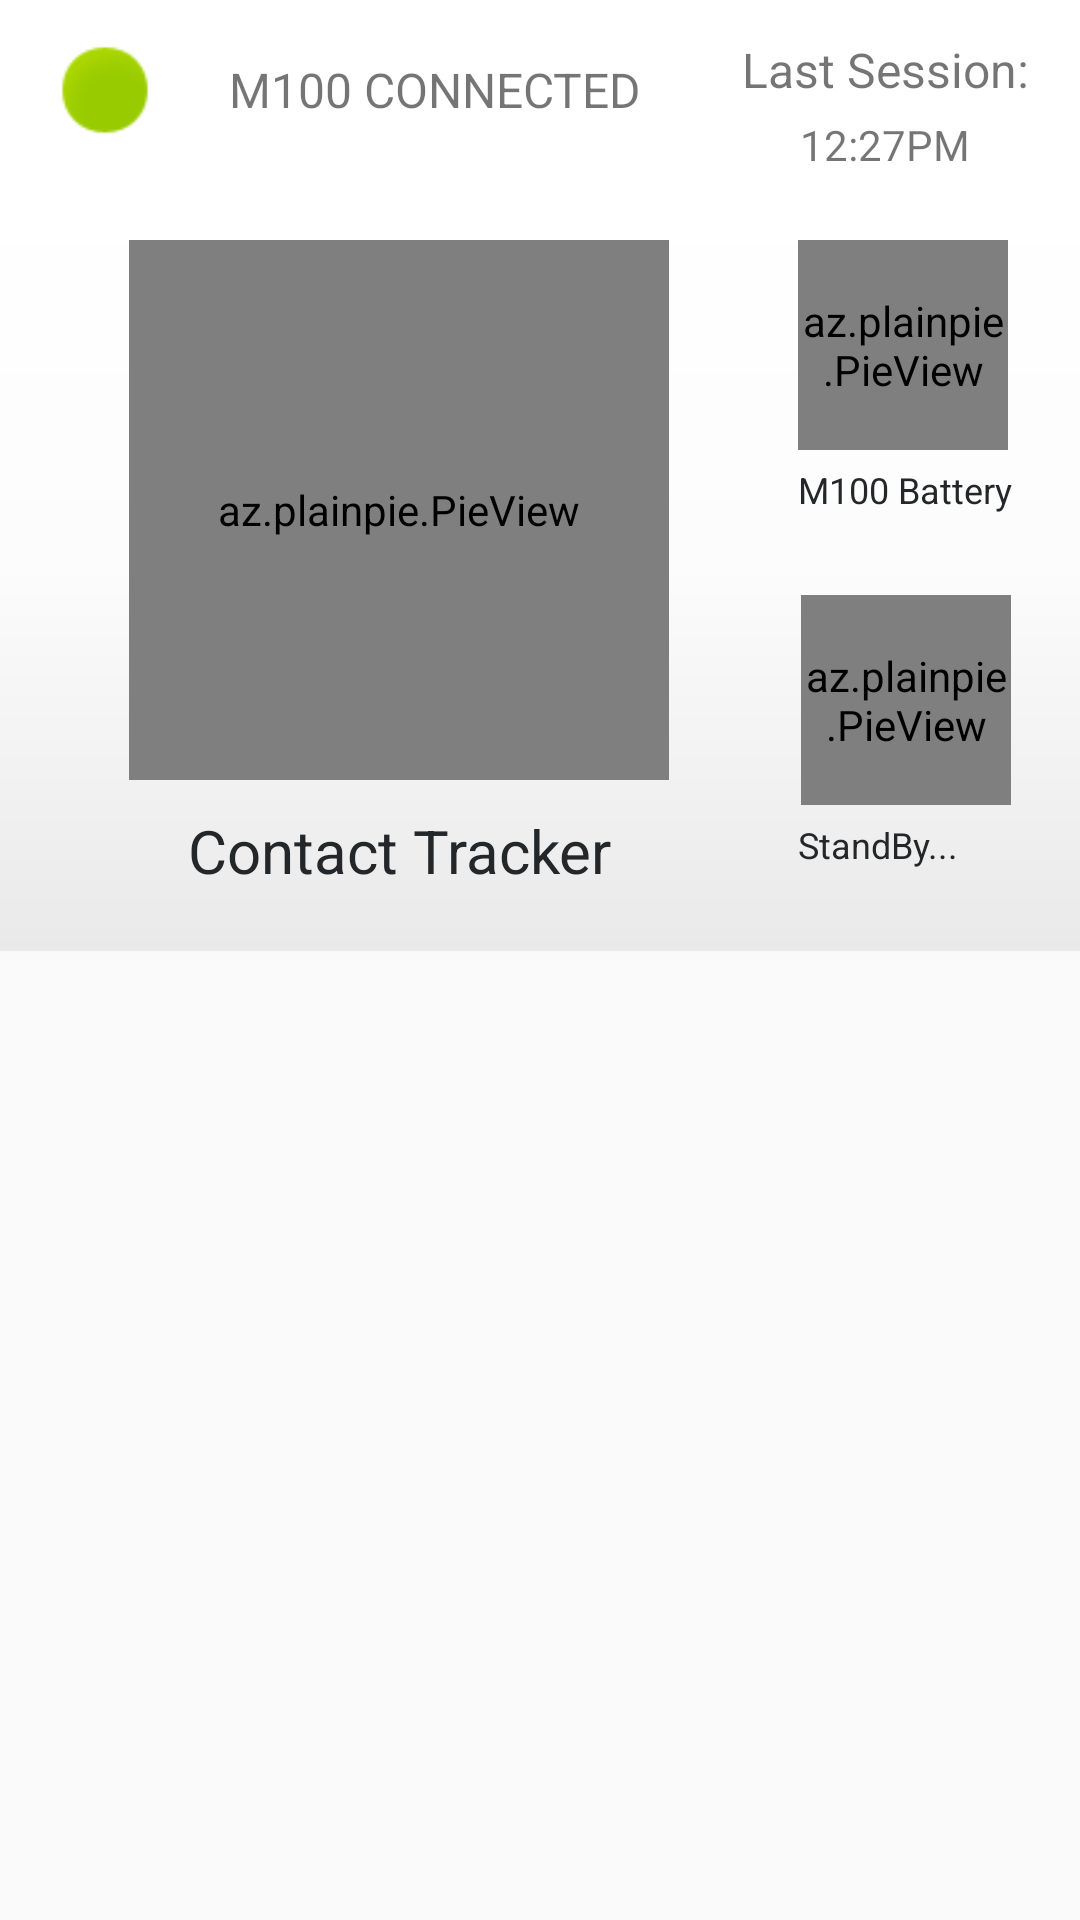

Named icons in this screenshot (1080×1920) and their centers, (x,y):
presence online: (105,90)
